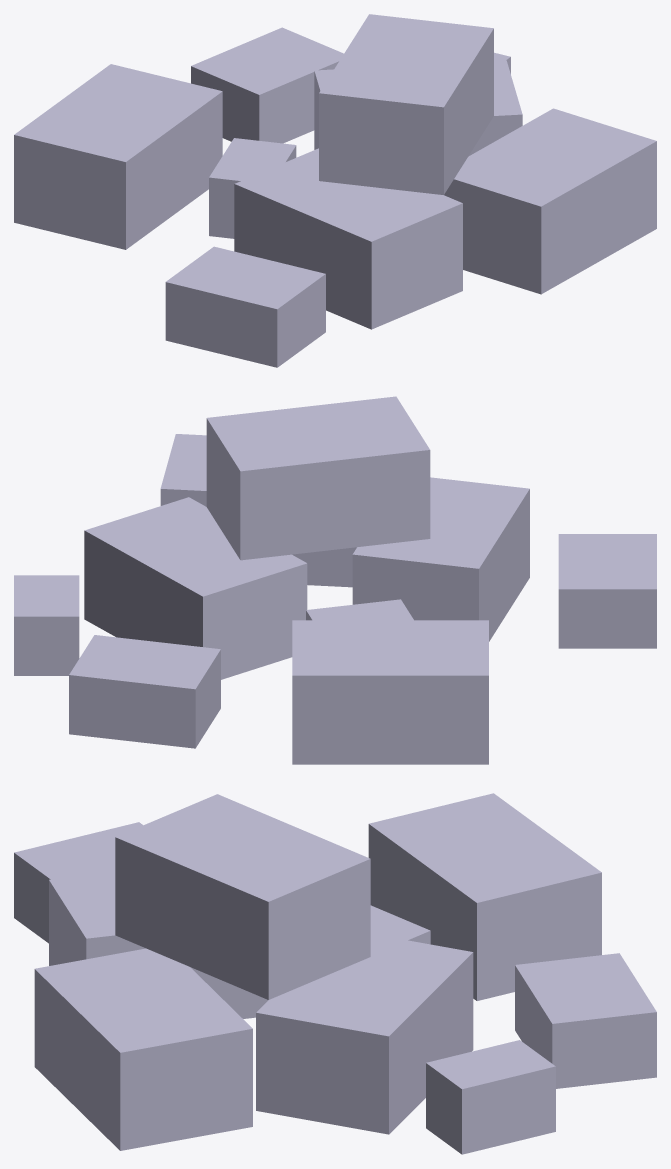
Rendered from debris_stone.glb.
3 views of the same model, one above another, from view 1: azimuth 30°, elevation 25°; view 2: azimuth 150°, elevation 25°; view 3: azimuth 270°, elevation 25° (orthographic). The views are drawn at different scales.
Visible parts, largest first — view 1: Castles_debris-stone; view 2: Castles_debris-stone; view 3: Castles_debris-stone.
Part boxes in pixels (x1=…): Castles_debris-stone: x1=14, y1=14, x2=656, y2=367; Castles_debris-stone: x1=14, y1=396, x2=656, y2=764; Castles_debris-stone: x1=14, y1=793, x2=656, y2=1154.
Size of the model in its own units: 0.8755 by 0.3 by 0.8903.
